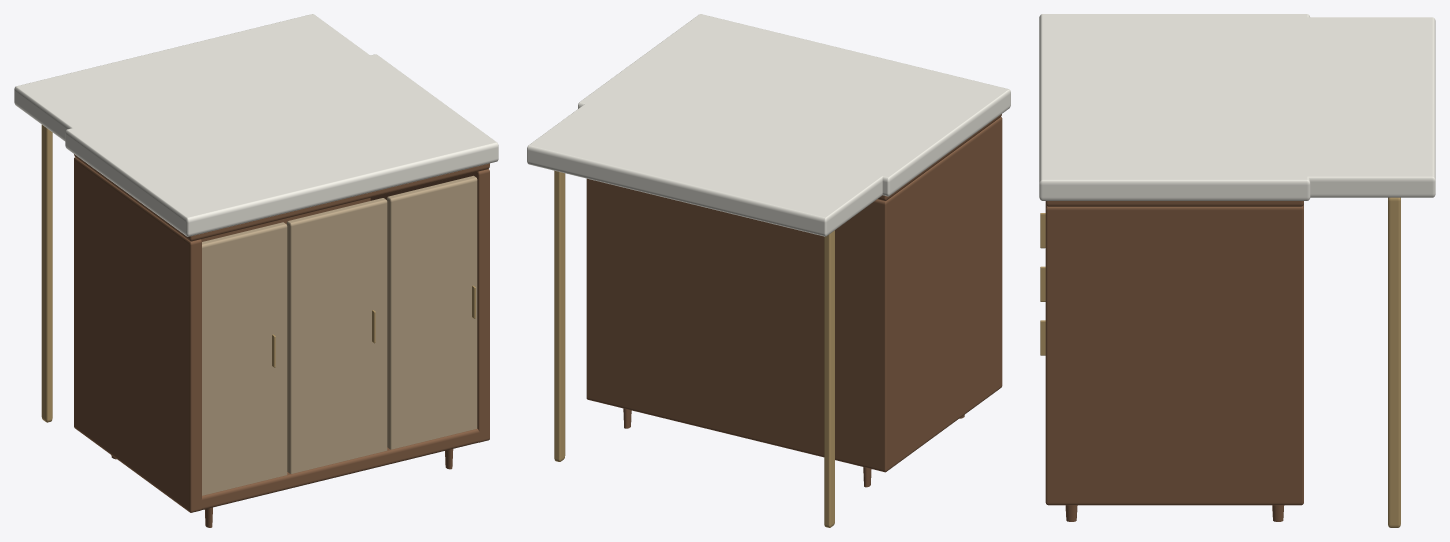
Rendered from cabinet-19-2.glb.
The picture shows the model from 3 angles, left to right: view 1: azimuth 30°, elevation 25°; view 2: azimuth 150°, elevation 25°; view 3: azimuth 270°, elevation 25°; orthographic projection. The views are drawn at different scales.
Visible parts, largest first — view 1: upholstery (×2), worktop, part; view 2: part, worktop, upholstery; view 3: part, worktop, upholstery.
Part boxes in pixels (bbox=[...]): upholstery (×2): bbox=[41, 125, 477, 495]; worktop: bbox=[14, 14, 498, 236]; part: bbox=[74, 154, 489, 527]; part: bbox=[586, 114, 1002, 487]; worktop: bbox=[527, 14, 1010, 236]; upholstery: bbox=[554, 170, 834, 527]; part: bbox=[1045, 201, 1303, 521]; worktop: bbox=[1039, 14, 1435, 200]; upholstery: bbox=[1040, 197, 1400, 527].
Bounding box in the file's own units: 1 × 1 × 1.
